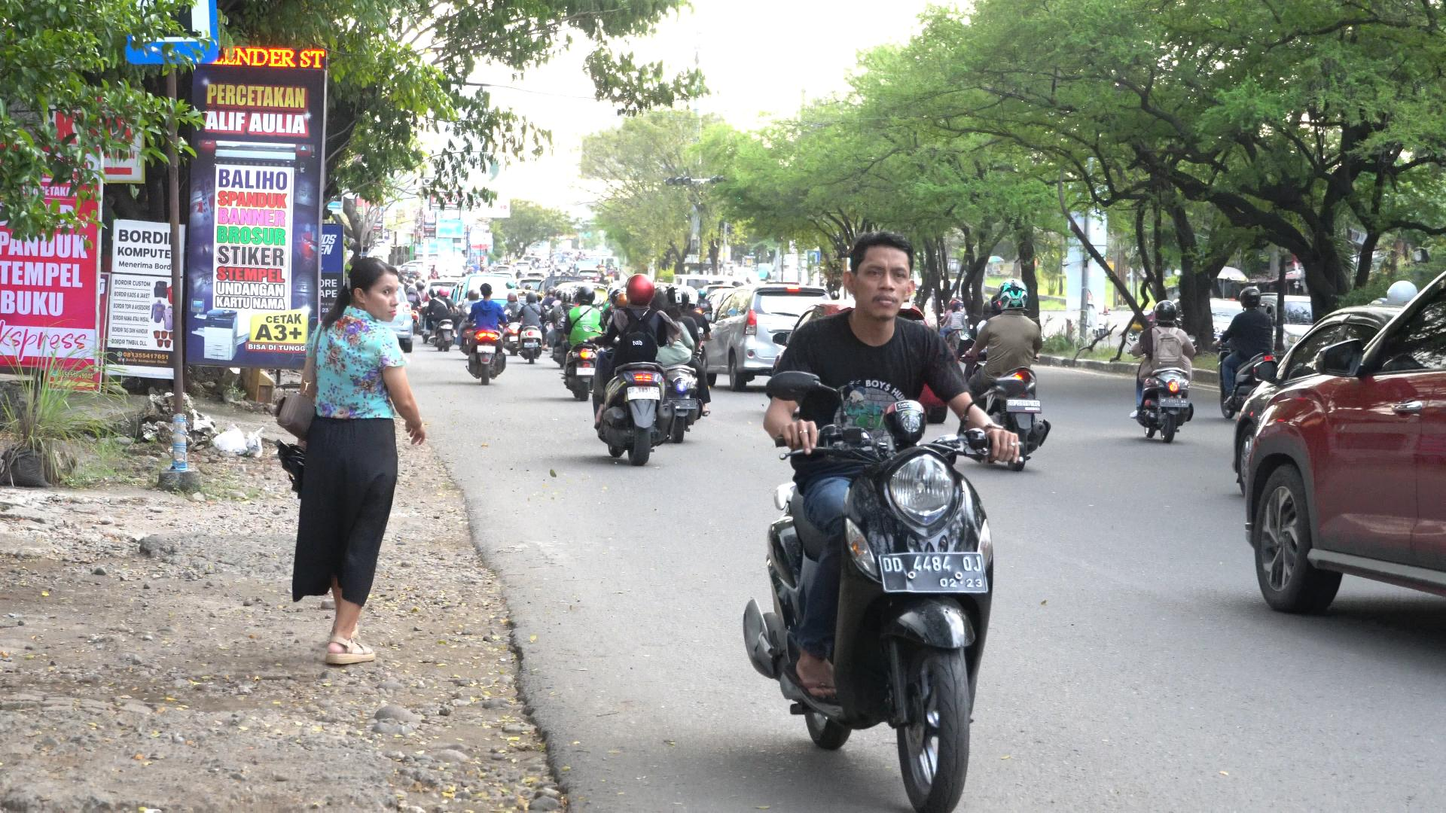number-plate: (876, 547, 990, 597)
